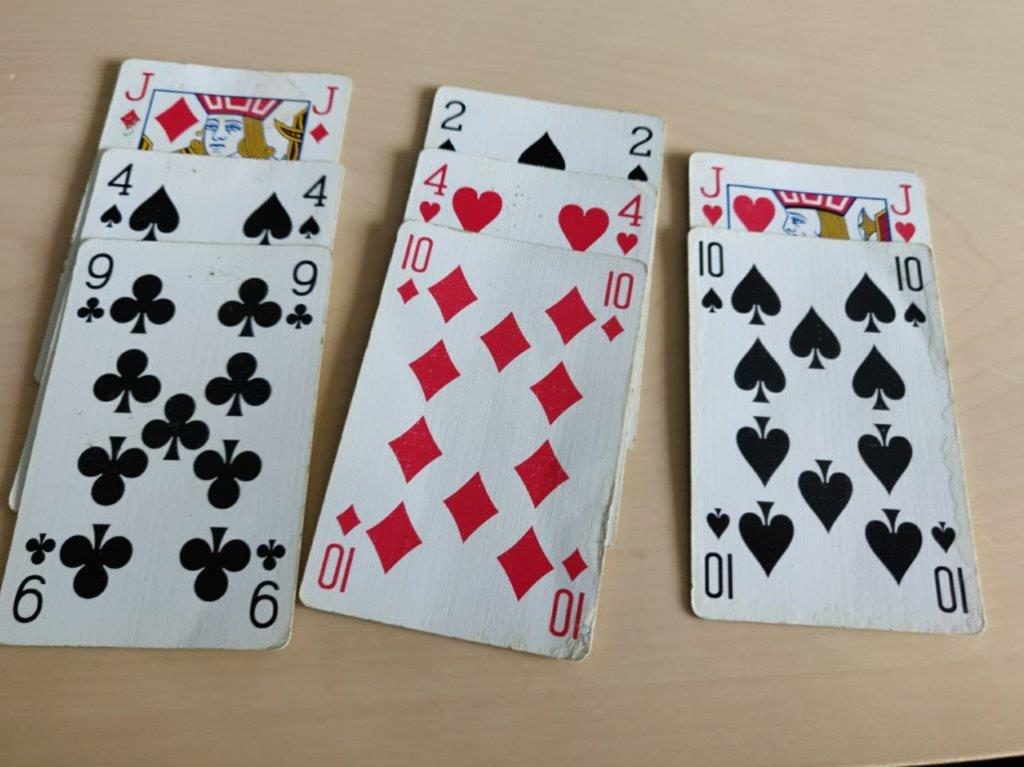10D: (391, 230, 435, 305), (591, 266, 635, 341)
10S: (893, 249, 929, 333), (695, 235, 728, 315)
2S: (620, 120, 658, 184), (434, 95, 470, 157)
4H: (417, 160, 455, 228), (610, 190, 648, 258)
4S: (95, 156, 137, 233), (291, 165, 333, 242)
9C: (70, 244, 117, 325), (280, 256, 323, 337)
JD: (114, 64, 156, 134), (303, 78, 345, 148)
JH: (694, 158, 731, 226), (887, 175, 924, 243)
